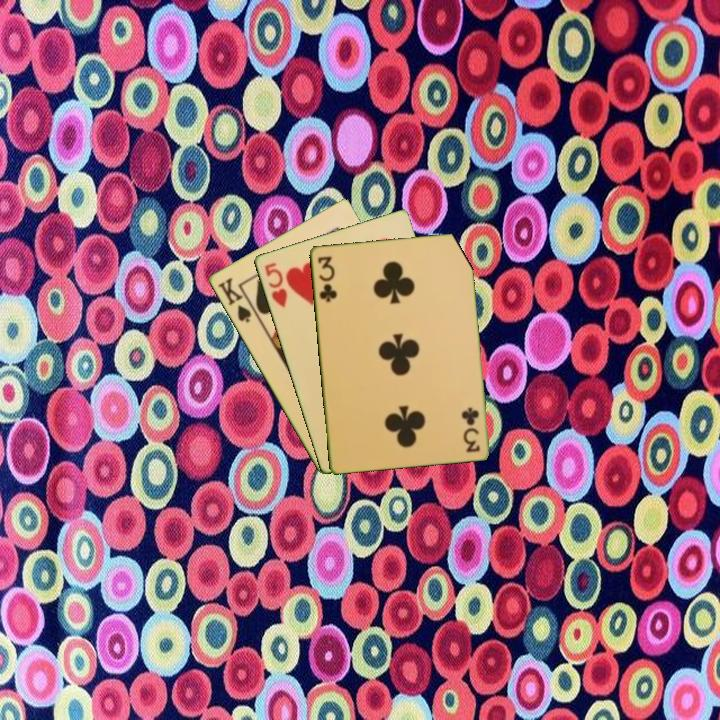3c: (314, 252, 339, 305), (459, 403, 482, 455)
5h: (261, 259, 290, 310)
Ks: (214, 274, 254, 325)
